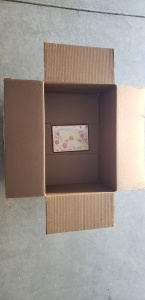innerbox: (42, 81, 116, 193)
outerbox: (5, 43, 145, 227)
product: (51, 124, 88, 152)
